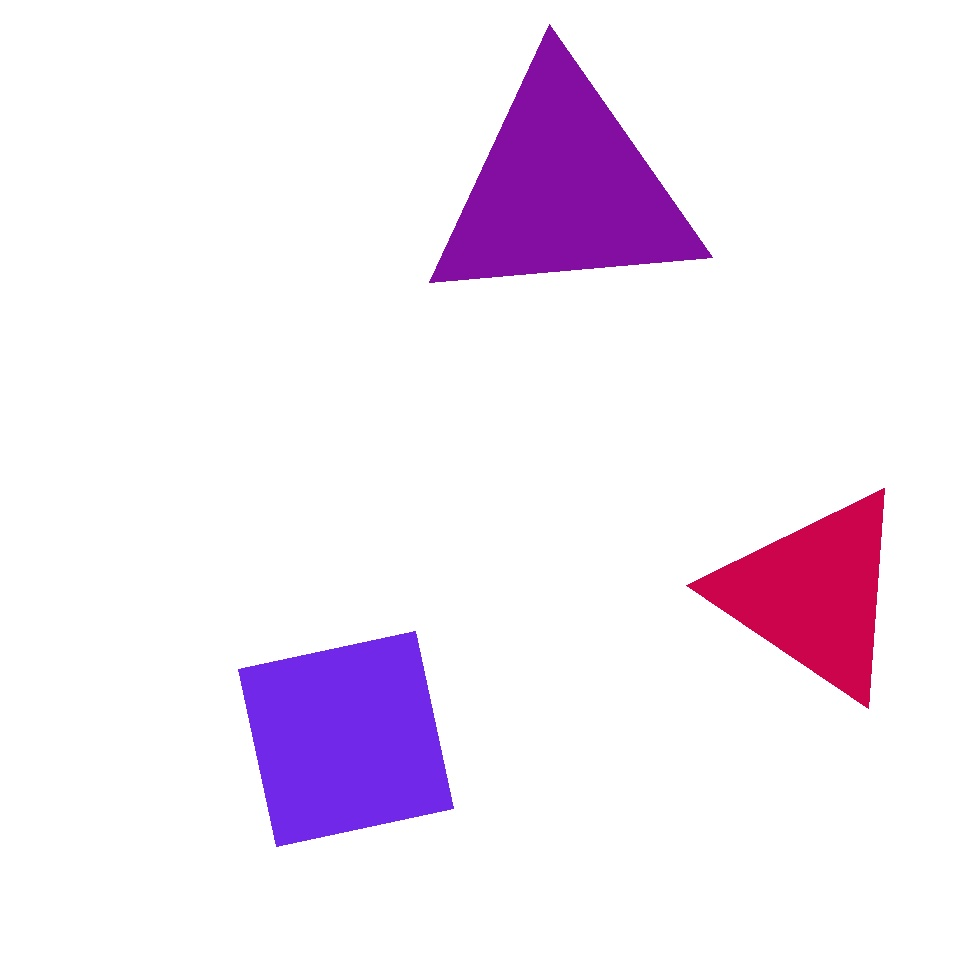circle: (422, 59, 706, 317), (714, 484, 912, 704), (498, 193, 650, 345), (462, 139, 614, 273)
square: (238, 632, 454, 846), (760, 455, 942, 636), (532, 30, 691, 188)
triangle: (11, 206, 230, 426)
